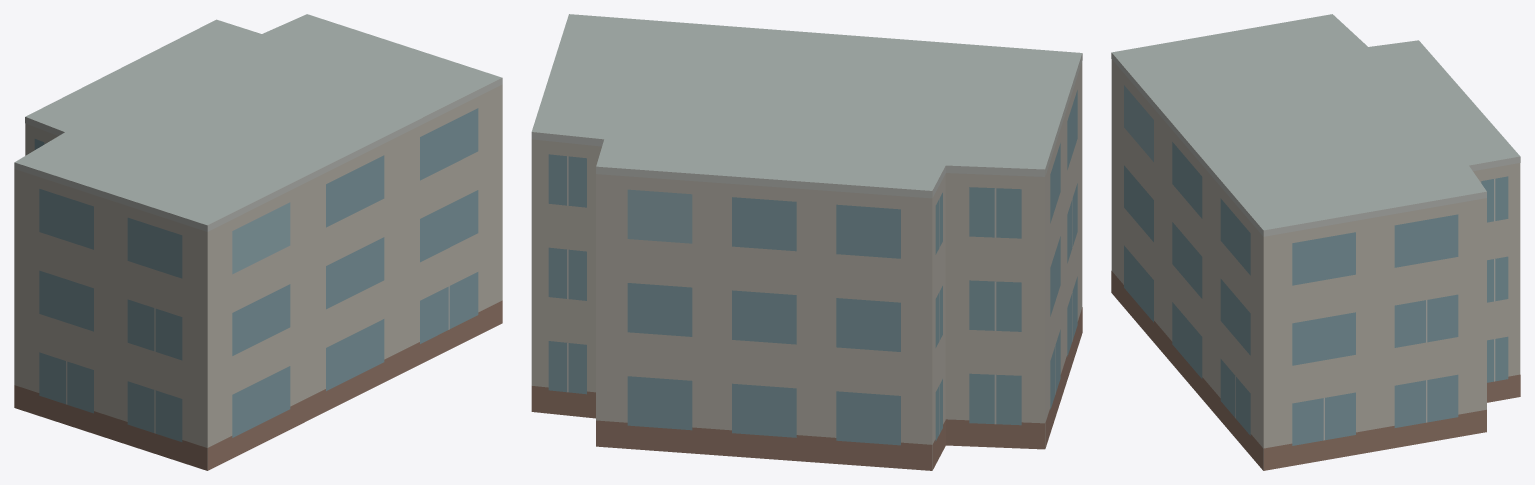
The model's file is survey-upis-32563019.glb.
The picture shows the model from 3 angles, left to right: view 1: azimuth 30°, elevation 25°; view 2: azimuth 150°, elevation 25°; view 3: azimuth 270°, elevation 25°; orthographic projection. The views are drawn at different scales.
Visible parts, largest first — view 1: survey-upis-32563019.tmp; view 2: survey-upis-32563019.tmp; view 3: survey-upis-32563019.tmp.
Part boxes in pixels (x1,y1,x2,y2): survey-upis-32563019.tmp: (14,14,502,470); survey-upis-32563019.tmp: (531,14,1082,470); survey-upis-32563019.tmp: (1111,14,1520,470).
Size of the model in its own units: 17.68 by 9.15 by 14.12.
